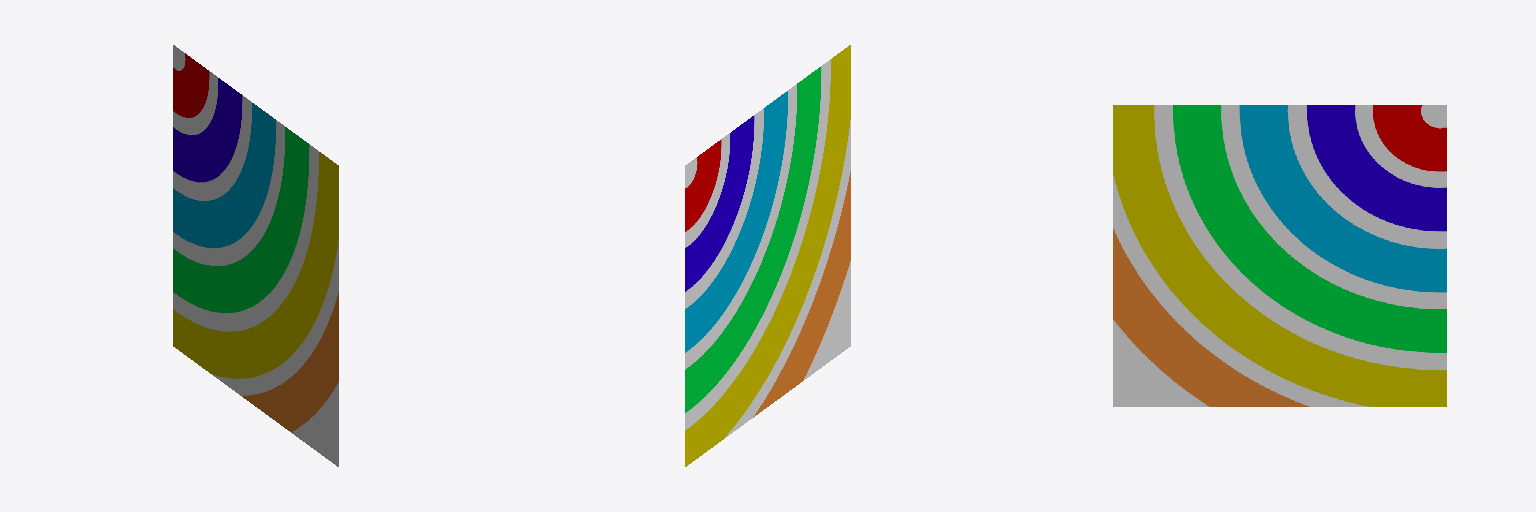
3 renders of one model, left to right at view 1: azimuth 30°, elevation 25°; view 2: azimuth 150°, elevation 25°; view 3: azimuth 270°, elevation 25°, orthographic.
Visible parts, largest first — view 1: 平面; view 2: 平面; view 3: 平面.
Part boxes in pixels (bbox=[...]): 平面: bbox=[173, 45, 338, 466]; 平面: bbox=[685, 45, 850, 466]; 平面: bbox=[1113, 105, 1446, 406].
Size of the model in its own units: 0 by 2 by 2.
1 materials, 1 textured.